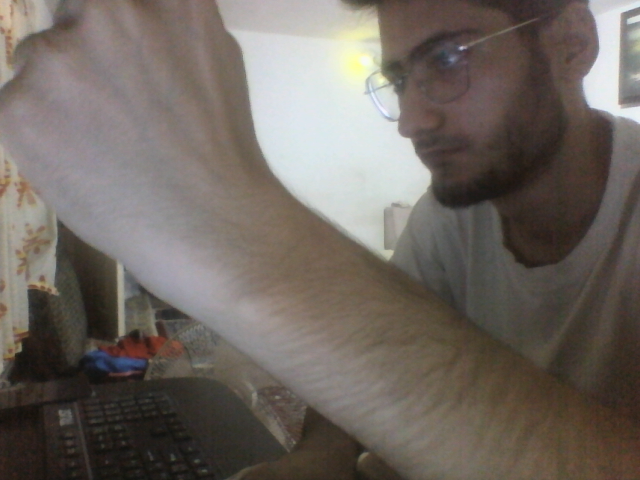attack: (1, 3, 254, 264)
sorat: (360, 2, 600, 209)
